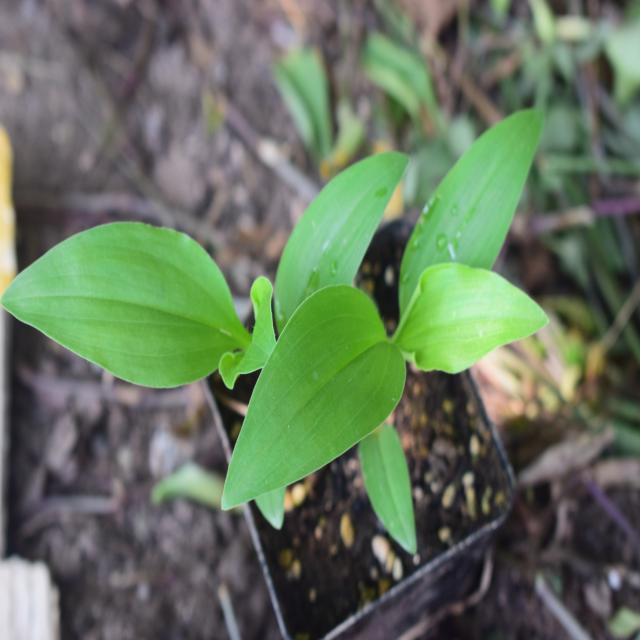Common Dayflower: (227, 100, 563, 521), (3, 192, 223, 408)
